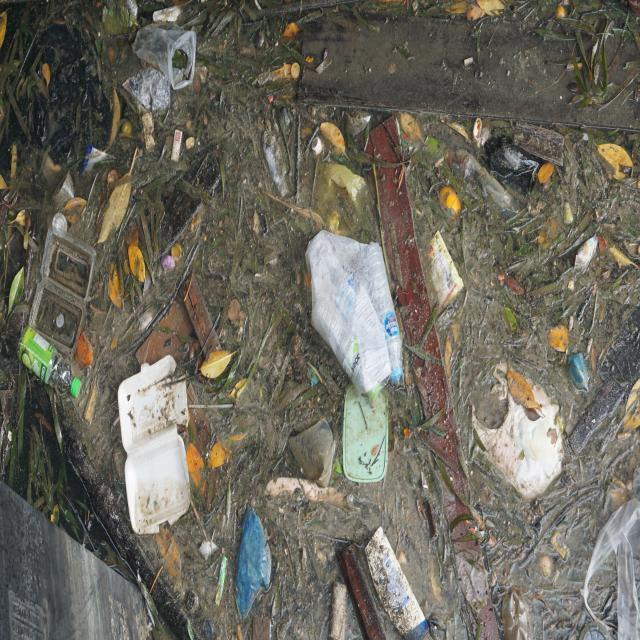Botol Plastik: (19, 323, 84, 406)
Bungkus Makanan: (118, 356, 194, 539), (29, 225, 99, 359)
Bungkus Minuman: (428, 228, 465, 310), (51, 167, 78, 208)
Kantong Plastik: (306, 225, 406, 393), (581, 498, 640, 640), (131, 19, 199, 92), (235, 503, 273, 619)
